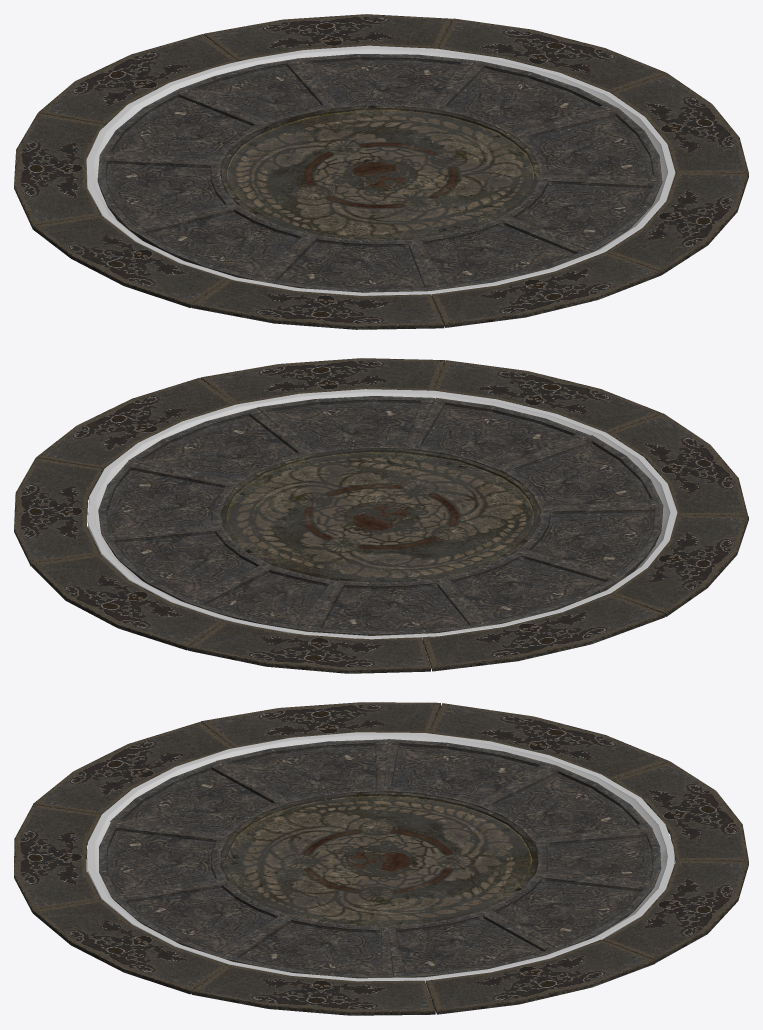
File: MKing_InnerCircle.FBX
3 renders of one model, top to bottom at view 1: azimuth 30°, elevation 25°; view 2: azimuth 150°, elevation 25°; view 3: azimuth 270°, elevation 25°, orthographic.
Visible parts, largest first — view 1: InnerCirleLow; view 2: InnerCirleLow; view 3: InnerCirleLow.
Part boxes in pixels (bbox=[...]): InnerCirleLow: bbox=[14, 14, 748, 329]; InnerCirleLow: bbox=[14, 358, 748, 673]; InnerCirleLow: bbox=[14, 702, 748, 1015].
Bounding box in the file's own units: 4.35 × 0.0522 × 4.36.
